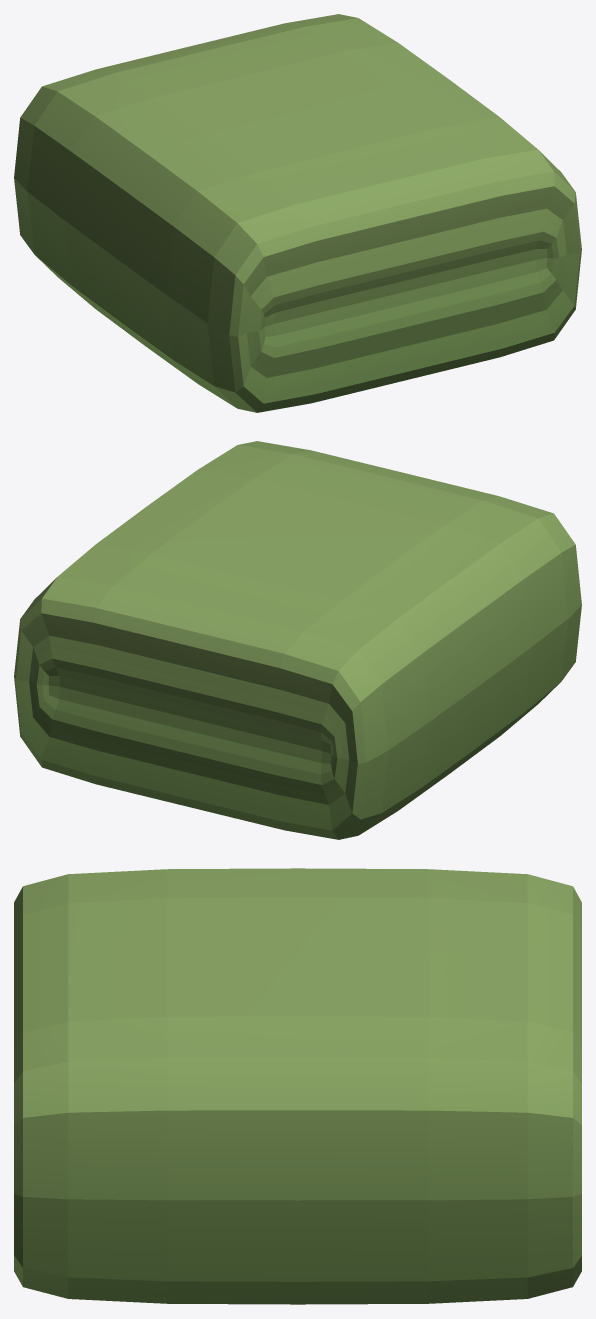
Rendered from Clothes4_C3.fbx.
3 views of the same model, one above another, from view 1: azimuth 30°, elevation 25°; view 2: azimuth 150°, elevation 25°; view 3: azimuth 270°, elevation 25° (orthographic). The views are drawn at different scales.
Parts seen in each view (by area): view 1: Clothes4_C3; view 2: Clothes4_C3; view 3: Clothes4_C3.
Part boxes in pixels (x1,y1,x2,y2): Clothes4_C3: (14, 14, 581, 412); Clothes4_C3: (14, 441, 581, 839); Clothes4_C3: (14, 868, 581, 1304).
Bounding box in the file's own units: 22.53 × 11.96 × 23.8.
